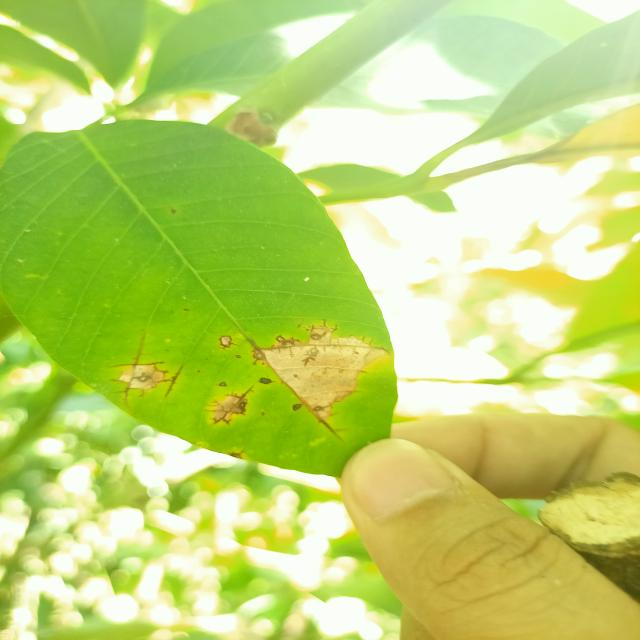Corynespora: (111, 332, 183, 406), (208, 386, 254, 425), (316, 413, 347, 441)
Leaf-Blight: (259, 326, 388, 419)
